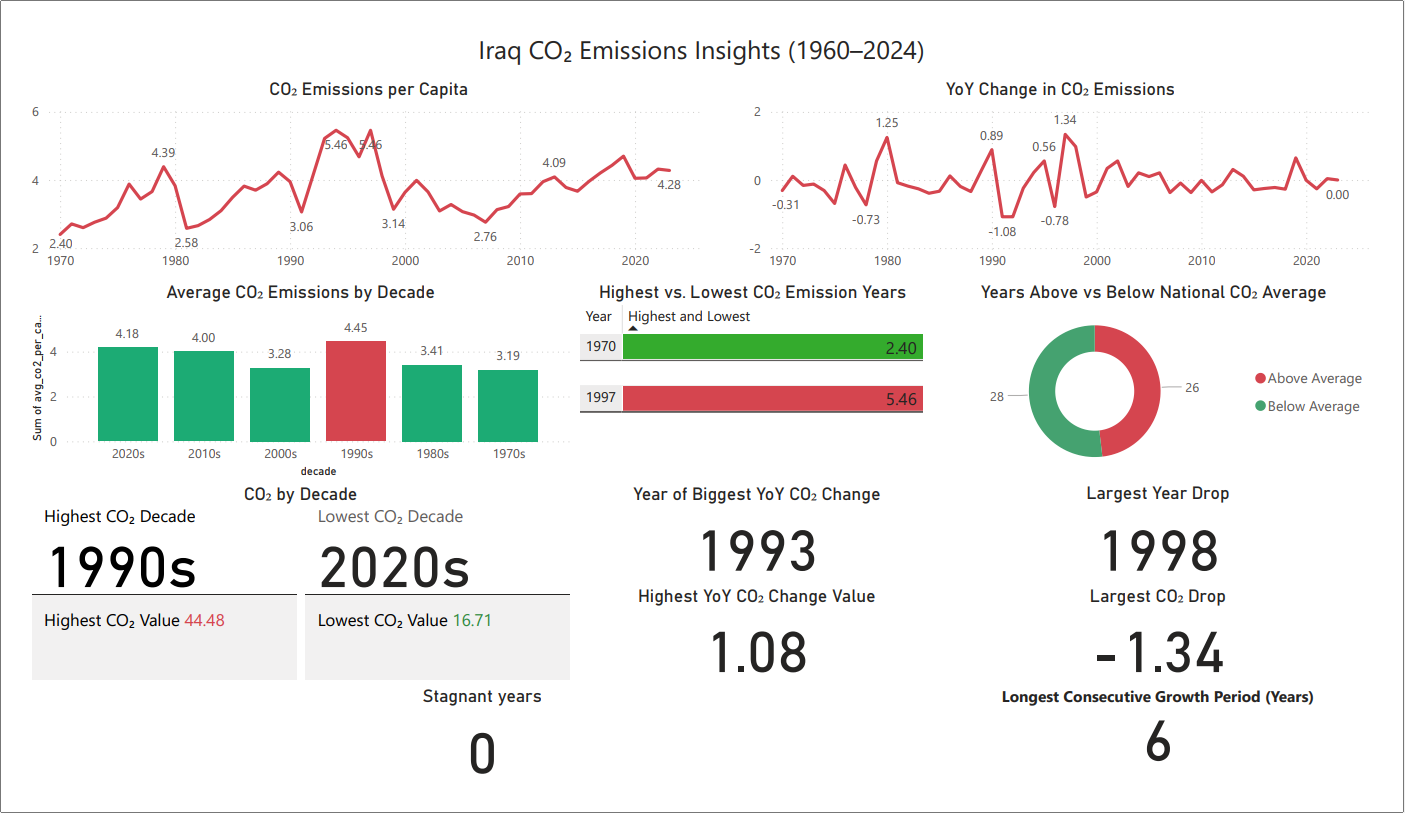

This screenshot's page, from the dashboard's own definition file:
{"tool":"powerbi","page":{"name":"CO₂ Emissions Insights","canvas":[1280,720],"ordinal":0},"visuals":[{"type":"lineChart","title":"CO₂ Emissions per Capita","fields":{"Category":["Q1_CO2_Trend_Final.year"],"Y":["Sum(Q1_CO2_Trend_Final.co2_per_capita)"]},"box":[0,48,664,192],"z":0},{"type":"lineChart","title":"YoY Change in CO₂ Emissions","fields":{"Category":["Q1_CO2_Trend_Final.year"],"Y":["Sum(Q1_CO2_Trend_Final.YoY_CO2_Change)"]},"box":[664,48,616,192],"z":1000},{"type":"clusteredColumnChart","title":"Average CO₂ Emissions by Decade","fields":{"Category":["3-Question 3 What was the average CO₂ emissions per capita for each decade in Ir.decade"],"Y":["Sum(3-Question 3 What was the average CO₂ emissions per capita for each decade in Ir.avg_co2_per_capita)"]},"box":[0,240,520,192],"z":2000},{"type":"cardVisual","title":"CO₂ by Decade","fields":{"Data":["Q4_CO2_HighLow.Year of Highest CO2","Q4_CO2_HighLow.decade of Lowest CO2"]},"box":[0,432,520,192],"z":3000},{"type":"card","title":"Year of Biggest YoY CO₂ Change","fields":{"Values":["Q5_YoY_Change.Year of Highest YoY CO2 Change"]},"box":[520,432,344,96],"z":4000},{"type":"card","title":"Highest YoY CO₂ Change Value","fields":{"Values":["Q5_YoY_Change.Highest YoY CO2 Change Value"]},"box":[520,528,344,96],"z":5000},{"type":"donutChart","title":"Years Above vs Below National CO₂ Average","fields":{"Y":["Sum(6-How many years had emissions above the national average And how many were belo.above_avg_years)","Sum(6-How many years had emissions above the national average And how many were belo.below_avg_years)"]},"box":[856,240,424,192],"z":6000},{"type":"card","title":"Longest Consecutive Growth Period (Years)","fields":{"Values":["Sum(7-What is the longest continuous streak of increasing CO₂ emissions per capita i.longest_growth_streak)"]},"box":[864,624,416,96],"z":7000},{"type":"pivotTable","title":"Highest vs. Lowest CO₂ Emission Years","fields":{"Rows":["Q2 Which year had the highest and lowest CO₂ emissions per capita in I.highest_year"],"Values":["Sum(Q2 Which year had the highest and lowest CO₂ emissions per capita in I.highest_value)"]},"box":[520,240,336,192],"z":8000},{"type":"card","title":"Stagnant years","fields":{"Values":["Sum(8-How many years had stagnant CO₂ emissions per capita No change from the previo.stagnant_years)"]},"box":[0,624,864,96],"z":9000},{"type":"card","title":"Largest Year Drop","fields":{"Values":["Sum(Q9 What is the largest single-year drop in CO₂ emissions per capita in Iraq and i.year)"]},"box":[864,432,416,96],"z":10000},{"type":"card","title":"Largest CO₂ Drop","fields":{"Values":["Sum(Q9 What is the largest single-year drop in CO₂ emissions per capita in Iraq and i.largest_drop)"]},"box":[864,528,416,96],"z":11000},{"type":"textbox","box":[336,0,608,48],"z":12000}]}

Visuals, with their boxes in screenshot pixels (x1, y1, x2, y2), scaled from the page's 1280x720 canvas onto the 1405x813 screenshot:
"CO₂ Emissions per Capita" lineChart: left=0, top=54, right=729, bottom=271
"YoY Change in CO₂ Emissions" lineChart: left=729, top=54, right=1404, bottom=271
"Average CO₂ Emissions by Decade" clusteredColumnChart: left=0, top=271, right=571, bottom=488
"CO₂ by Decade" cardVisual: left=0, top=488, right=571, bottom=705
"Year of Biggest YoY CO₂ Change" card: left=571, top=488, right=948, bottom=596
"Highest YoY CO₂ Change Value" card: left=571, top=596, right=948, bottom=705
"Years Above vs Below National CO₂ Average" donutChart: left=940, top=271, right=1404, bottom=488
"Longest Consecutive Growth Period (Years)" card: left=948, top=705, right=1404, bottom=812
"Highest vs. Lowest CO₂ Emission Years" pivotTable: left=571, top=271, right=940, bottom=488
"Stagnant years" card: left=0, top=705, right=948, bottom=812
"Largest Year Drop" card: left=948, top=488, right=1404, bottom=596
"Largest CO₂ Drop" card: left=948, top=596, right=1404, bottom=705
textbox: left=369, top=0, right=1036, bottom=54
